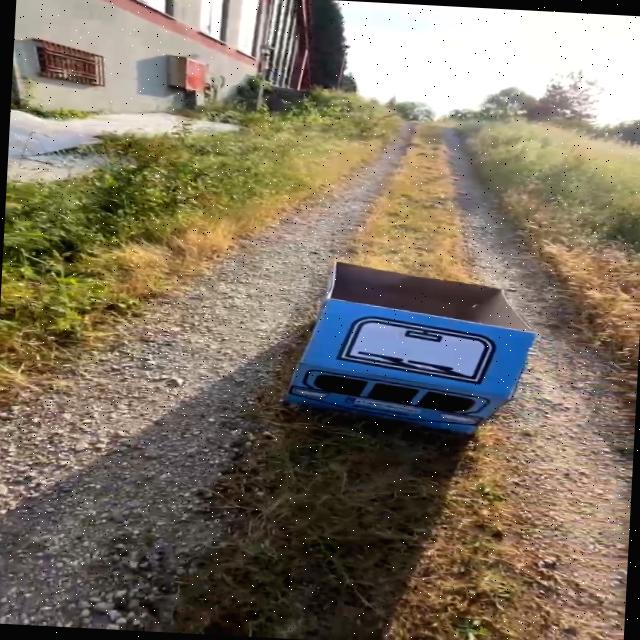blue_car: (233, 245, 591, 467)
